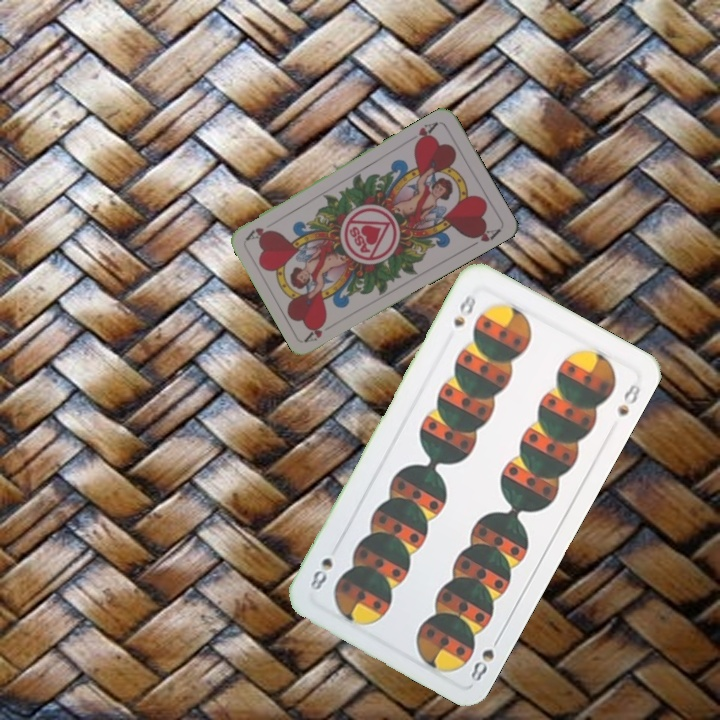HA: (405, 118, 441, 148), (302, 317, 328, 345)
S8: (466, 630, 504, 685), (449, 290, 479, 330)
